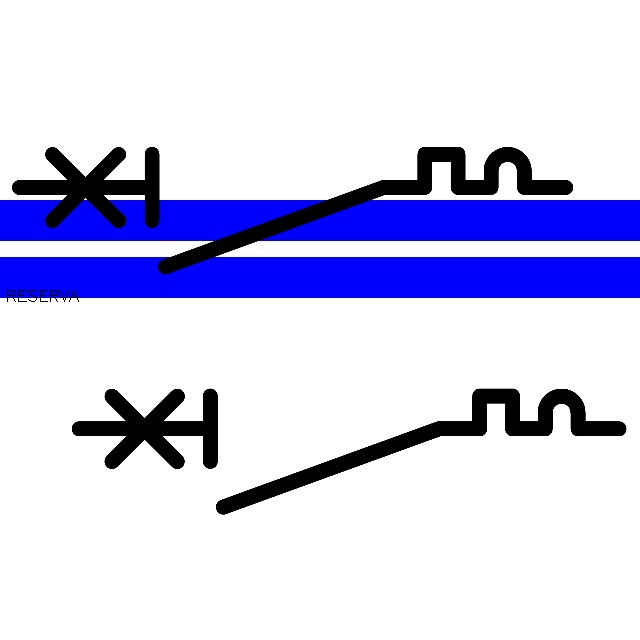interruptor_termomagnetico: (5, 140, 580, 281), (65, 382, 633, 521)
